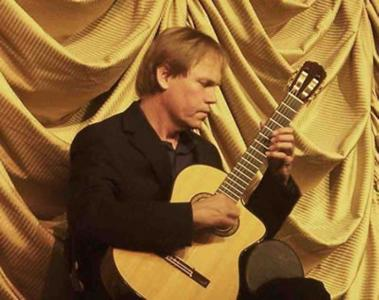person: (69, 27, 331, 300)
